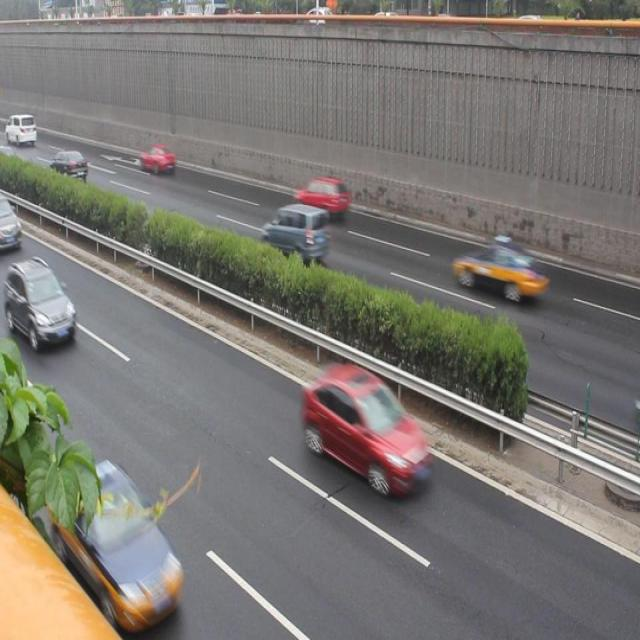car: (49, 458, 193, 621), (302, 365, 437, 506), (451, 231, 548, 318), (9, 261, 80, 348), (259, 201, 330, 268), (296, 174, 352, 220)
truck: (1, 196, 28, 256)
